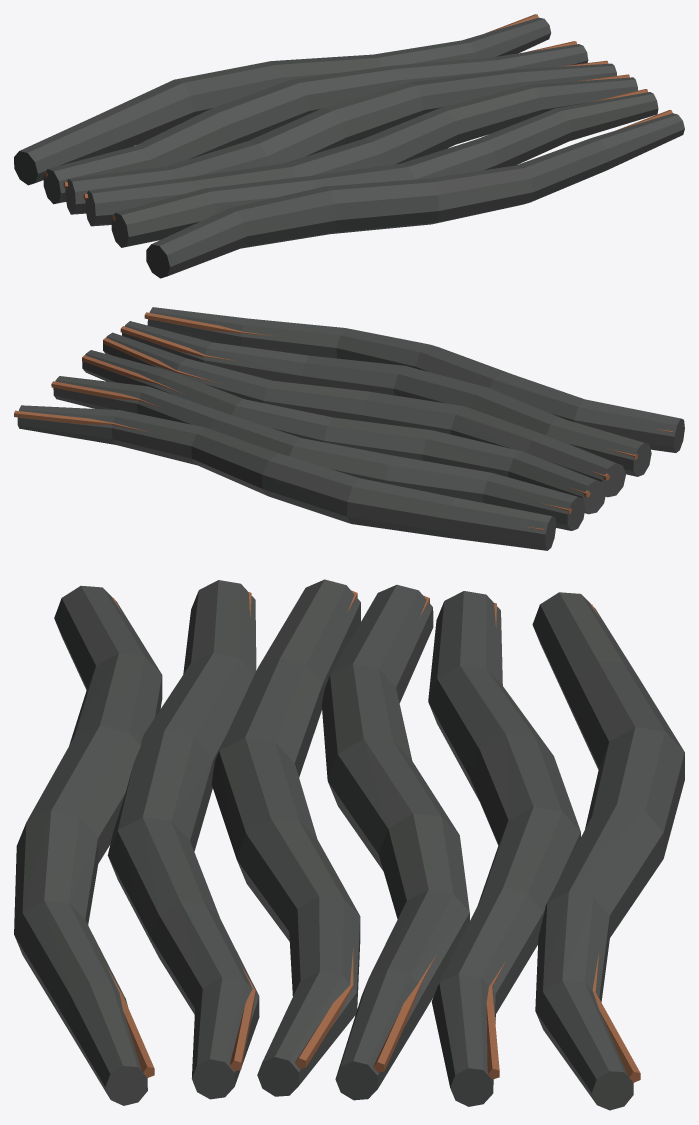
File: Environment_Feature_Volcano_RopedLava_001.glb
The picture shows the model from 3 angles, top to bottom: view 1: azimuth 30°, elevation 25°; view 2: azimuth 150°, elevation 25°; view 3: azimuth 270°, elevation 25°; orthographic projection. The views are drawn at different scales.
Parts seen in each view (by area): view 1: Environment_Feature_Volcano_RopedLava_001; view 2: Environment_Feature_Volcano_RopedLava_001; view 3: Environment_Feature_Volcano_RopedLava_001.
Part boxes in pixels (bbox=[...]): Environment_Feature_Volcano_RopedLava_001: bbox=[14, 14, 684, 278]; Environment_Feature_Volcano_RopedLava_001: bbox=[14, 307, 684, 550]; Environment_Feature_Volcano_RopedLava_001: bbox=[14, 579, 684, 1110].
Bounding box in the file's own units: 6.07 × 0.5475 × 3.63.
